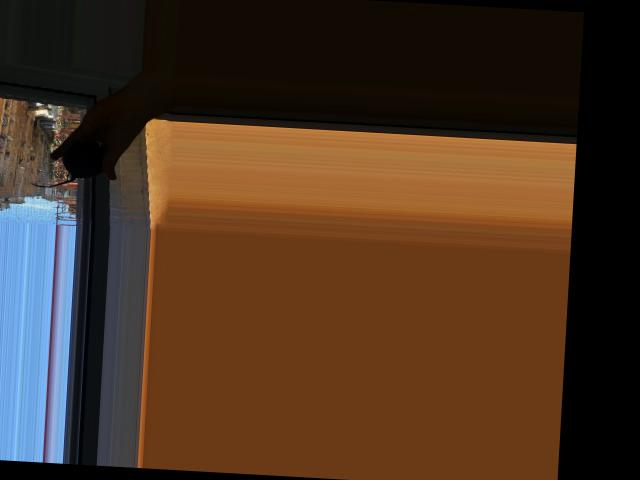beet: (29, 137, 103, 190)
